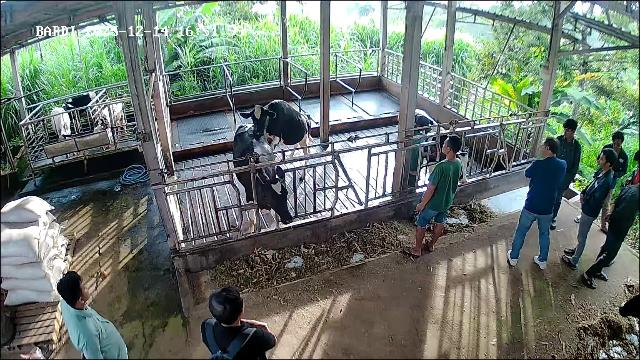mounting: (240, 97, 312, 183)
